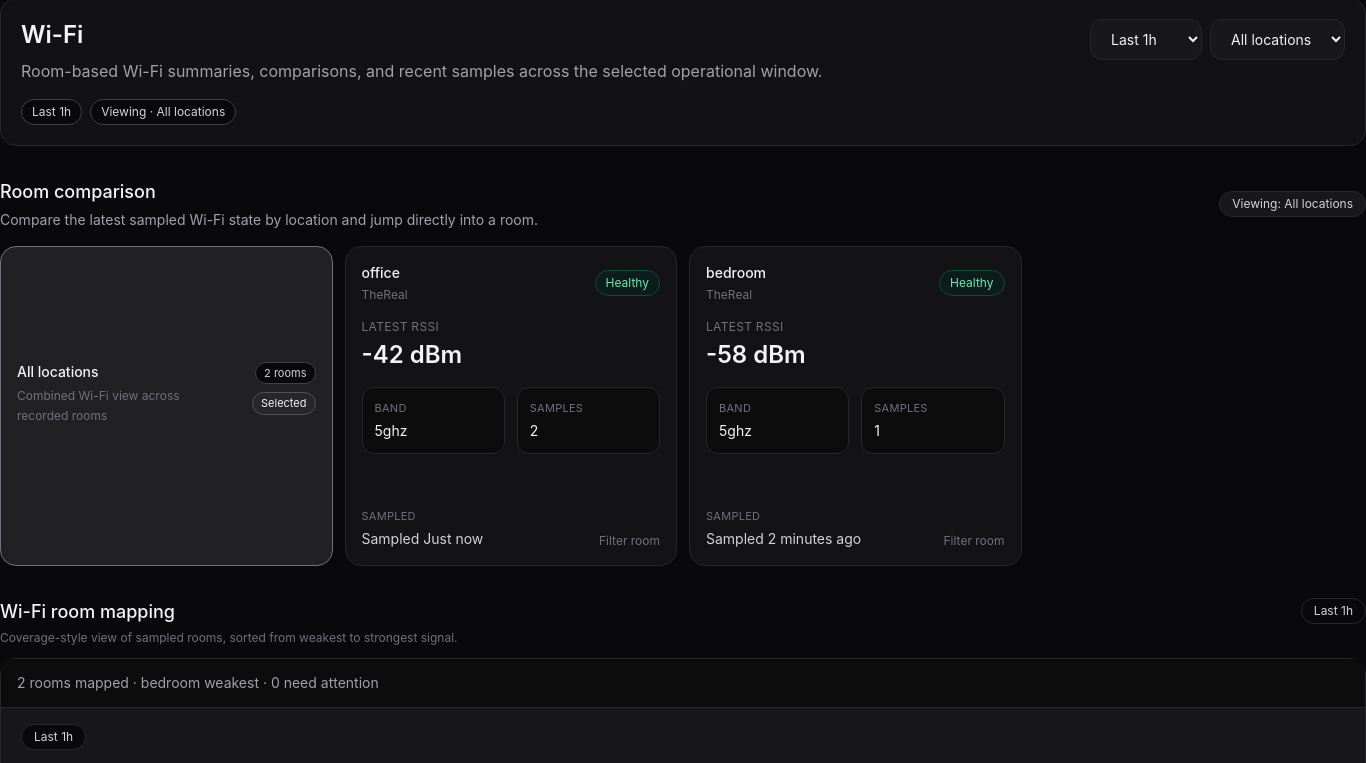
it: WifiPage › updates room filter UX when a comparison card is clicked
Click the button "bedroom".
click(736, 272)  # box [689,246,1022,566]
(page scrolled)
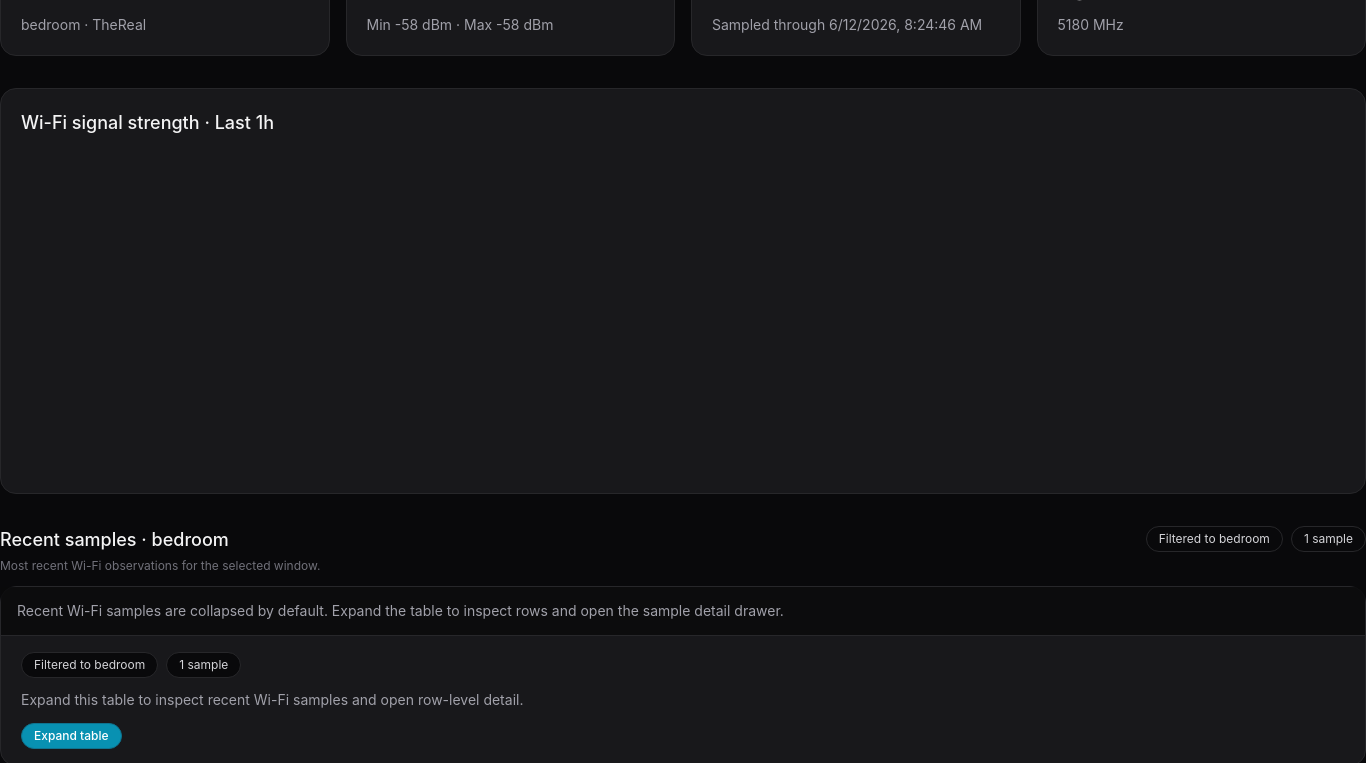
Check: the heading "Recent samples · bedroom" is shown, box [0,528,229,550]
Check: the text "Filtered to bedroom" is shown 2 times, box [1146,526,1283,552]; [21,652,158,678]
